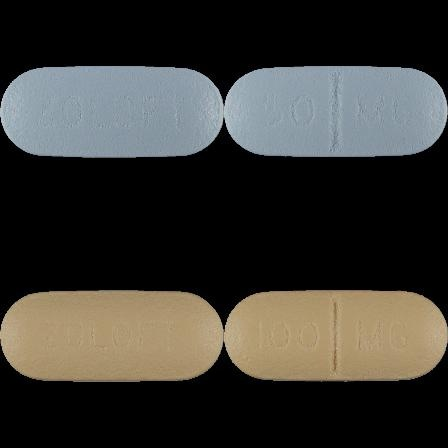16590-250: (0, 0, 224, 224)
